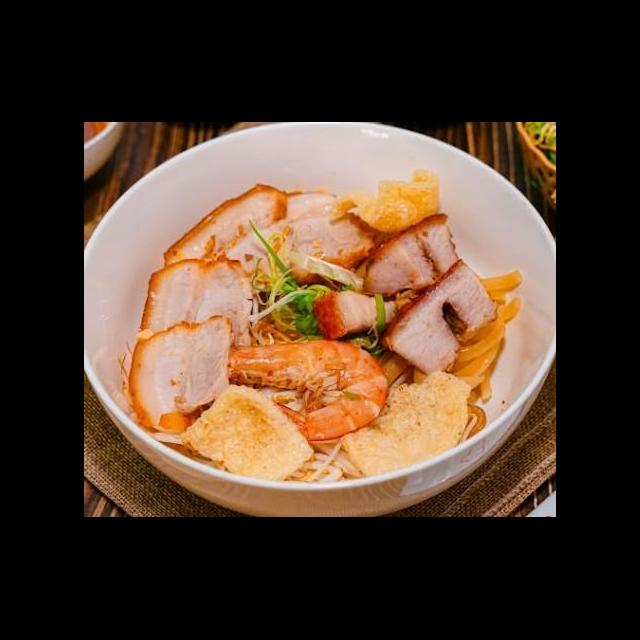banh da: (333, 370, 474, 480), (176, 382, 317, 489)
mi: (442, 266, 526, 444)
mi quang: (84, 155, 556, 518)
thit heo: (158, 180, 298, 300), (376, 256, 500, 382), (135, 252, 257, 378), (126, 310, 241, 436), (265, 188, 376, 290), (357, 210, 468, 308), (307, 288, 407, 344)
tom: (220, 336, 391, 446)
